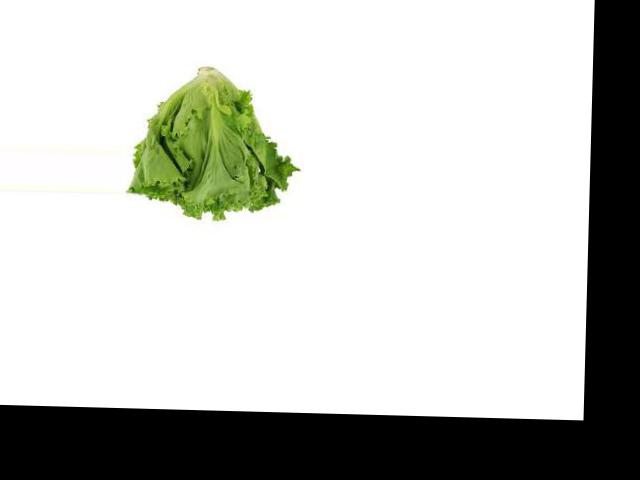lettuce: (132, 78, 289, 212)
